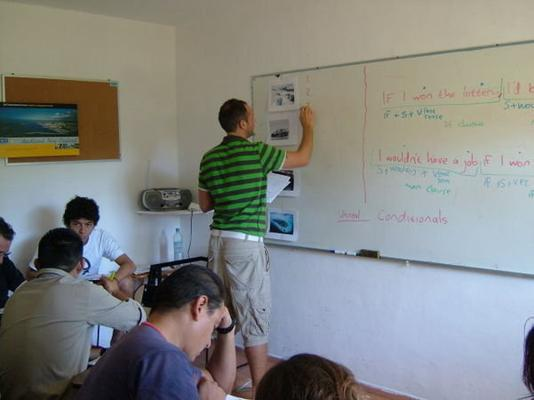person: (196, 97, 316, 392)
